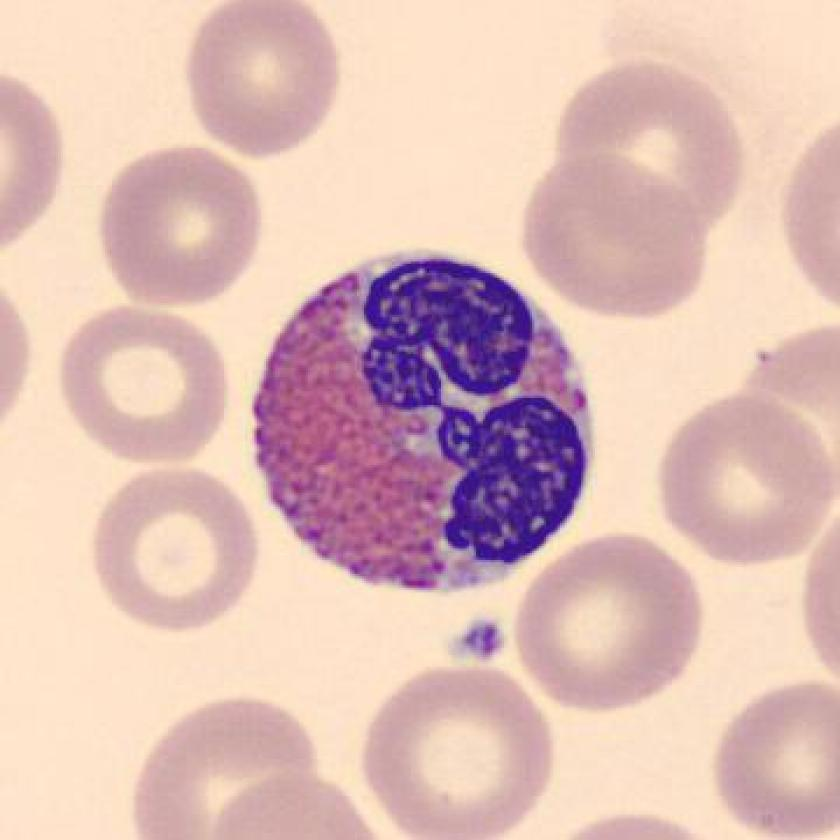eosinophil: (234, 239, 608, 612)
